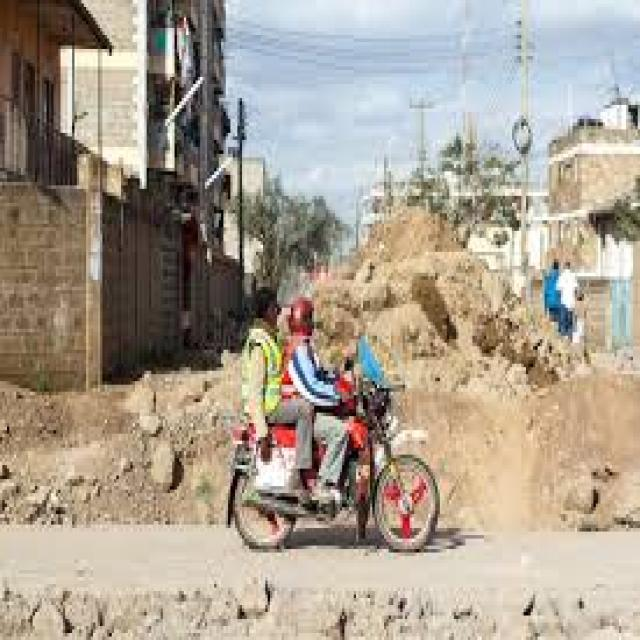bodaboda: (172, 318, 466, 560)
